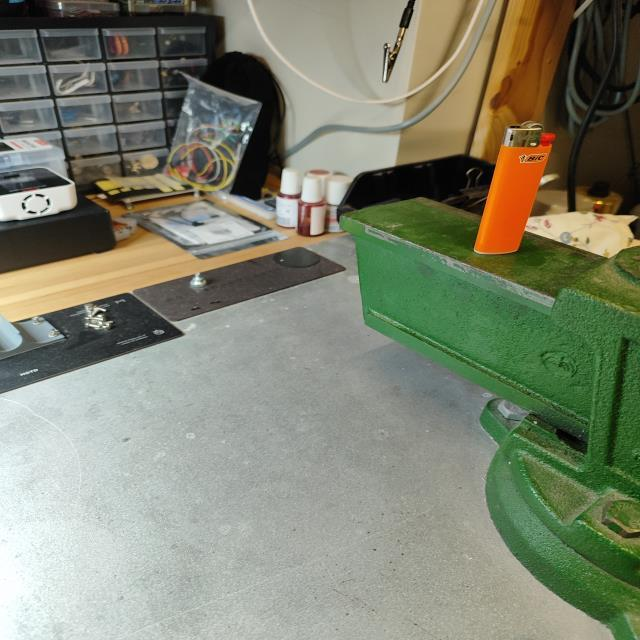lighter: (475, 123, 554, 254)
